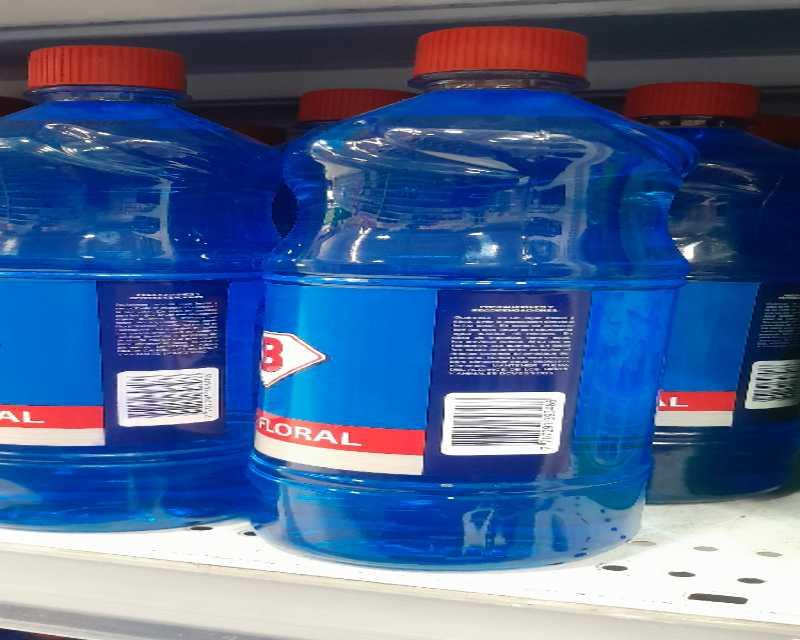SUPER-RIEL-AZUL-BOTELLA-925_50: (267, 24, 667, 567), (1, 40, 268, 518)
